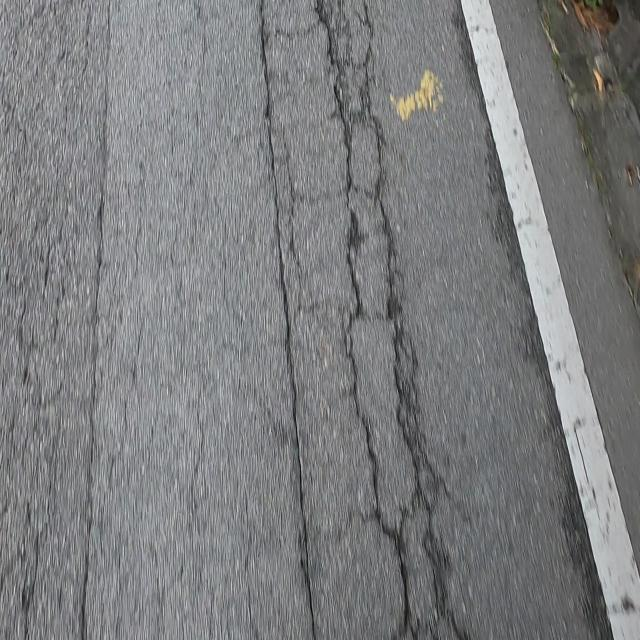Retak-Buaya: (310, 0, 466, 638), (1, 0, 110, 637), (256, 1, 319, 637)
